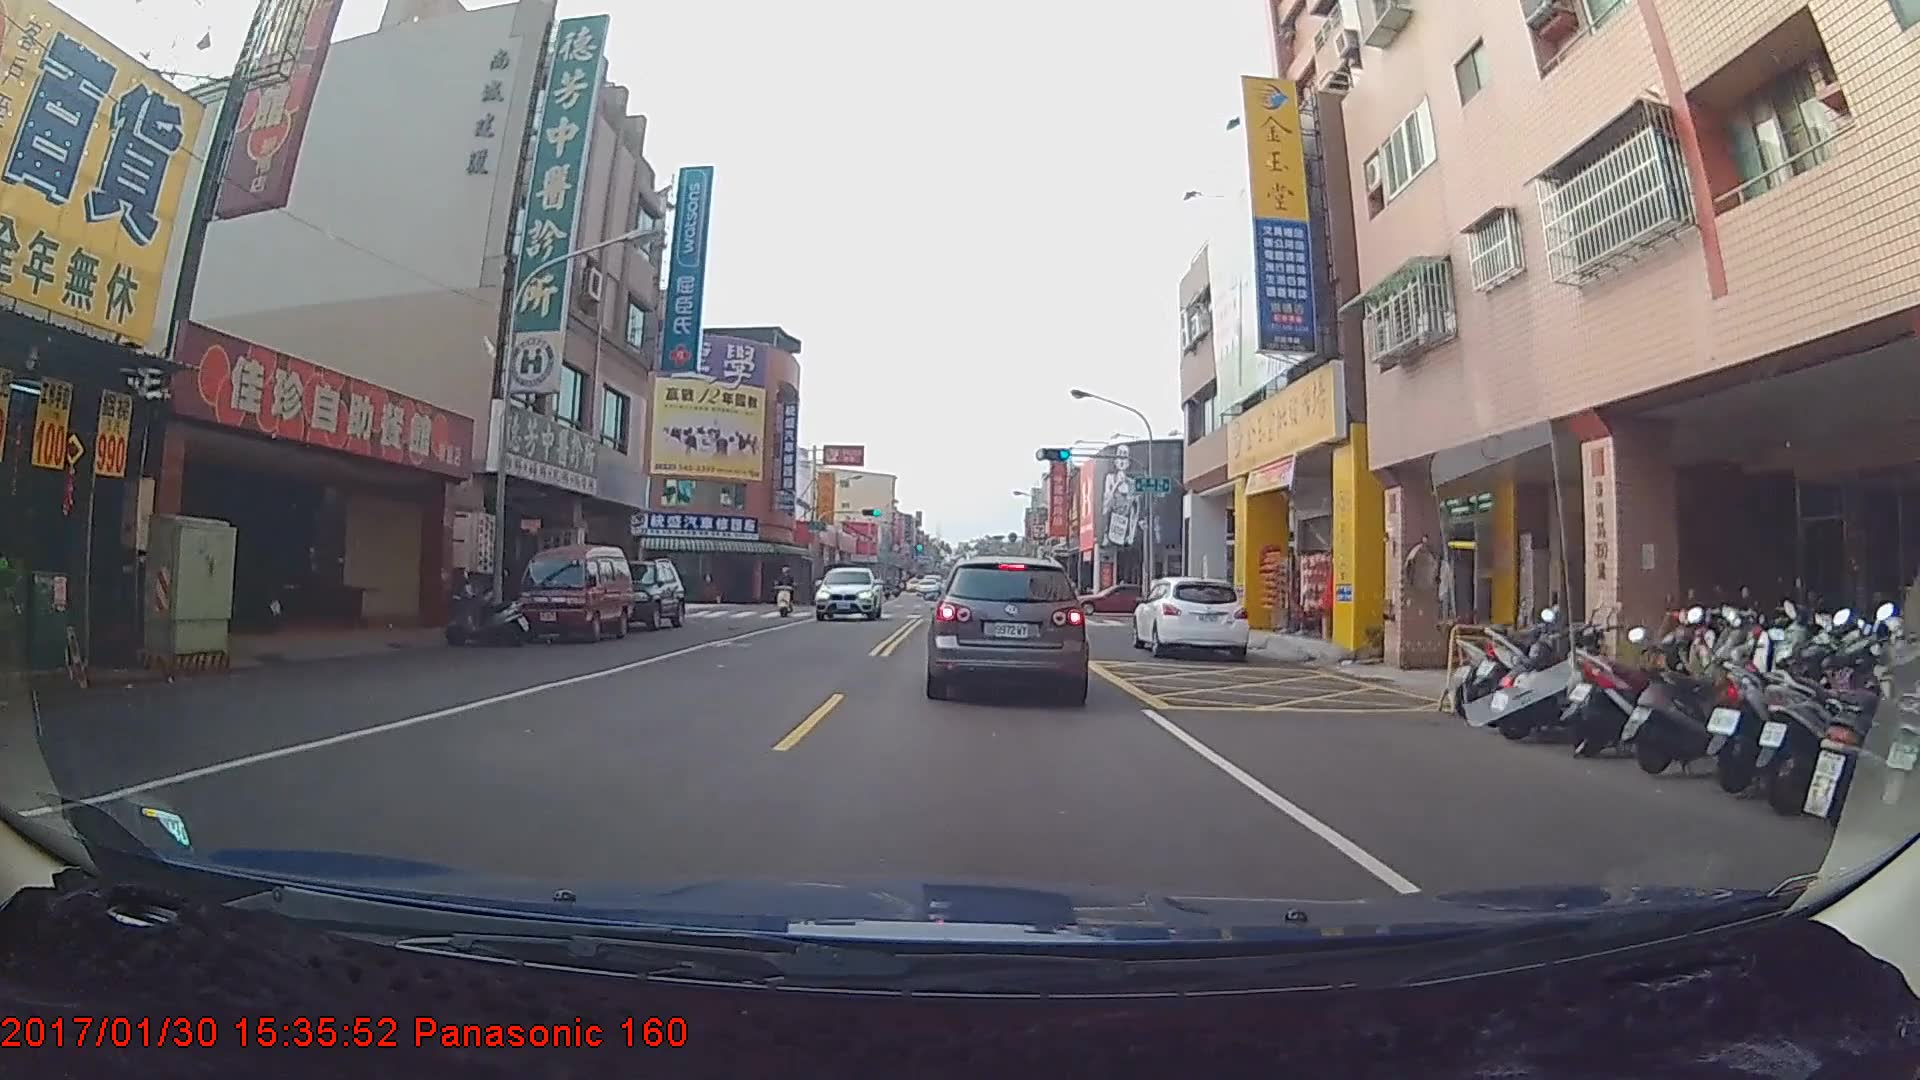rider: (772, 569, 803, 624)
vehicle: (927, 554, 1088, 700), (516, 549, 634, 646), (1132, 574, 1248, 661), (591, 557, 685, 633), (814, 564, 880, 621), (1065, 581, 1168, 612), (915, 578, 939, 598)
